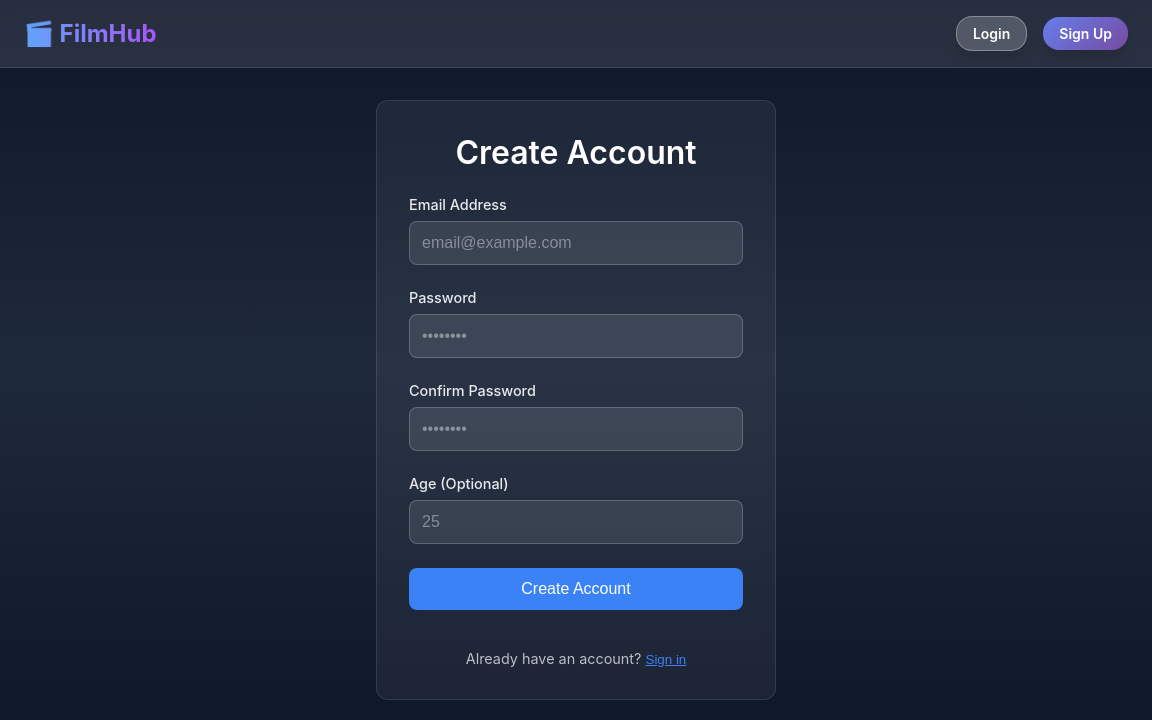
Test case: RegisterPage › shows password mismatch error
Step 1. Type "password123" into the password field labelled "Password" → point(576, 336), box top-left (409, 314), bottom-right (743, 358)
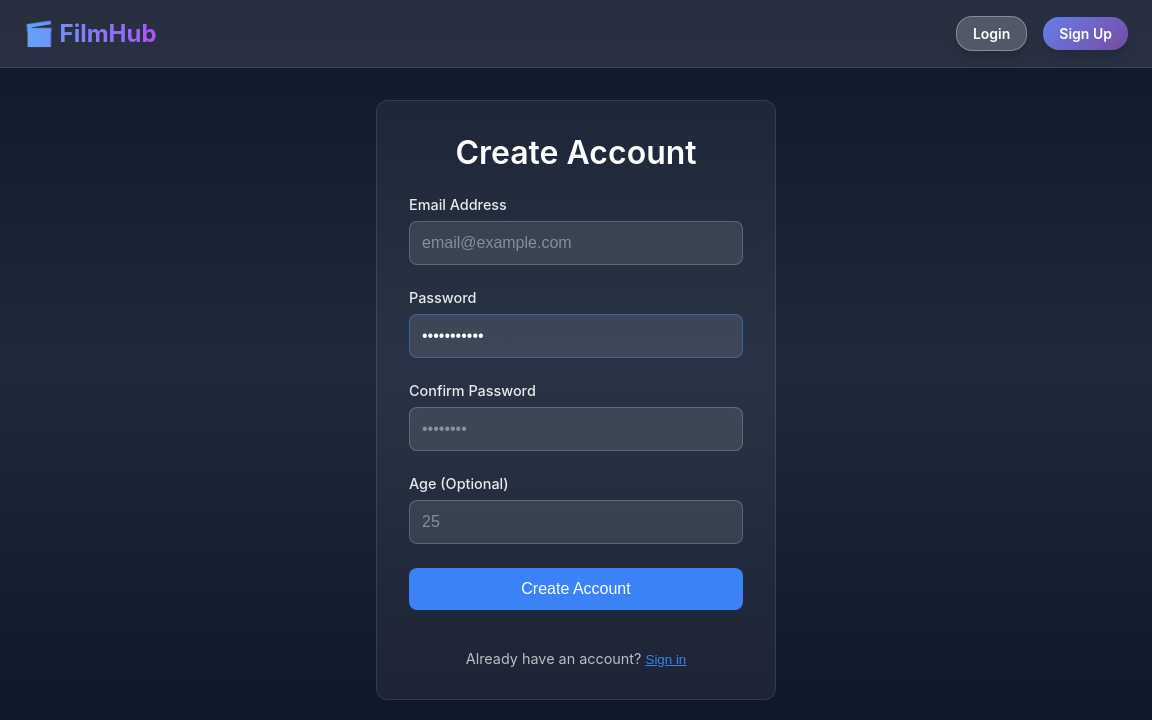
Step 2. Type "different" into the password field labelled "Confirm Password" → point(576, 429), box top-left (409, 407), bottom-right (743, 451)
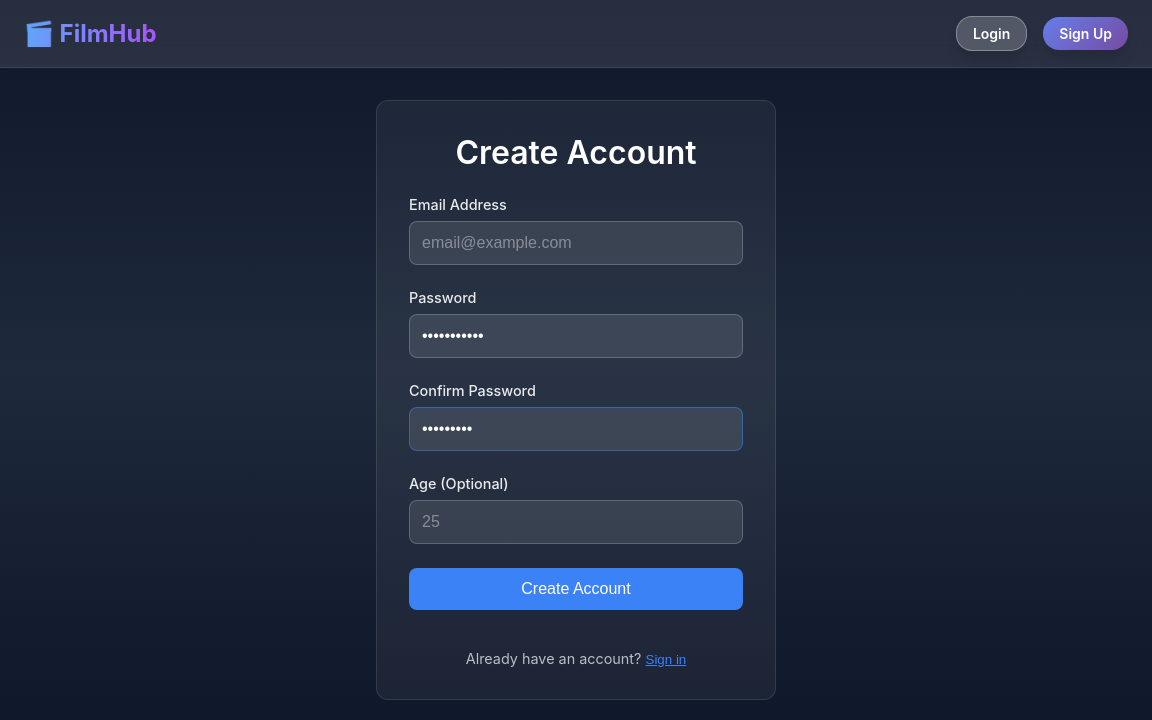
Step 3. Click the button "Create Account" → point(576, 589), box top-left (409, 568), bottom-right (743, 610)
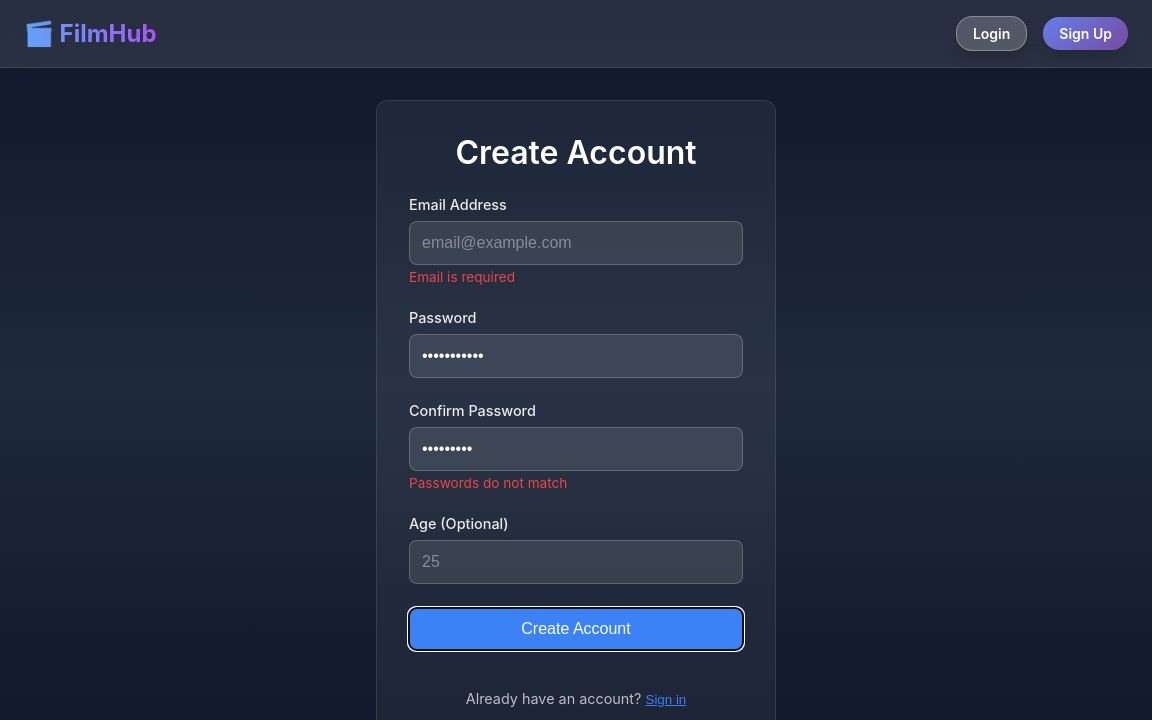
Expected: the text "Passwords do not match" is shown, top-left (409, 475), bottom-right (567, 491)
